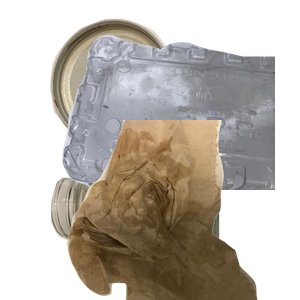glass: (48, 156, 260, 300)
metal: (47, 16, 214, 157)
plastic: (60, 32, 300, 212)
trash: (65, 120, 300, 300)
